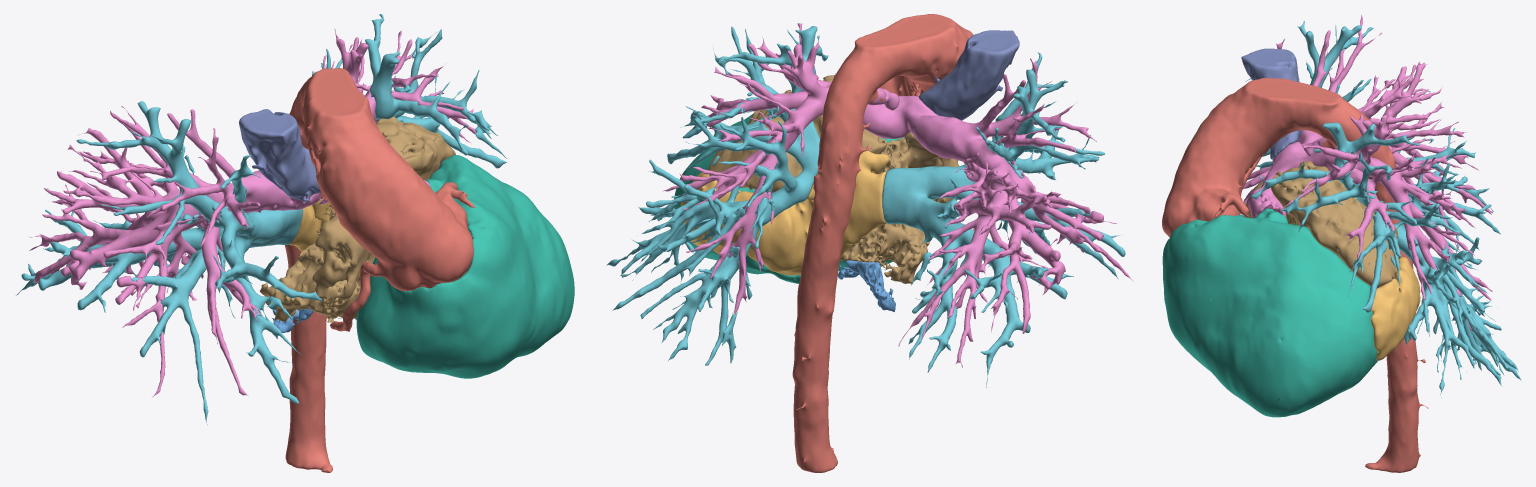
The model's file is chips10-series5.glb.
3 renders of one model, left to right at view 1: azimuth 30°, elevation 25°; view 2: azimuth 150°, elevation 25°; view 3: azimuth 270°, elevation 25°, orthographic. The views are drawn at different scales.
Visible parts, largest first — view 1: aorta, myo, pv, pa, ra, svc, la; view 2: pv, pa, aorta, ra, la, svc, myo, ivc; view 3: myo, aorta, pv, pa, ra, la, svc.
Boxes of the visible parts, <box> form: aorta: <box>284,68,475,472</box>; myo: <box>356,155,574,378</box>; pv: <box>16,14,506,424</box>; pa: <box>29,29,475,397</box>; ra: <box>260,116,455,322</box>; svc: <box>239,109,320,201</box>; la: <box>289,198,334,251</box>; pv: <box>606,26,1125,387</box>; pa: <box>663,23,1133,367</box>; aorta: <box>792,14,973,472</box>; ra: <box>708,75,958,283</box>; la: <box>680,150,889,275</box>; svc: <box>919,30,1019,120</box>; myo: <box>673,114,903,283</box>; ivc: <box>837,260,895,311</box>; myo: <box>1162,208,1377,417</box>; aorta: <box>1162,78,1428,472</box>; pv: <box>1240,21,1521,397</box>; pa: <box>1243,14,1492,330</box>; ra: <box>1244,161,1400,287</box>; la: <box>1353,197,1420,360</box>; svc: <box>1241,48,1301,159</box>.
Size of the model in its own units: 0.1797 by 0.1619 by 0.1458.
